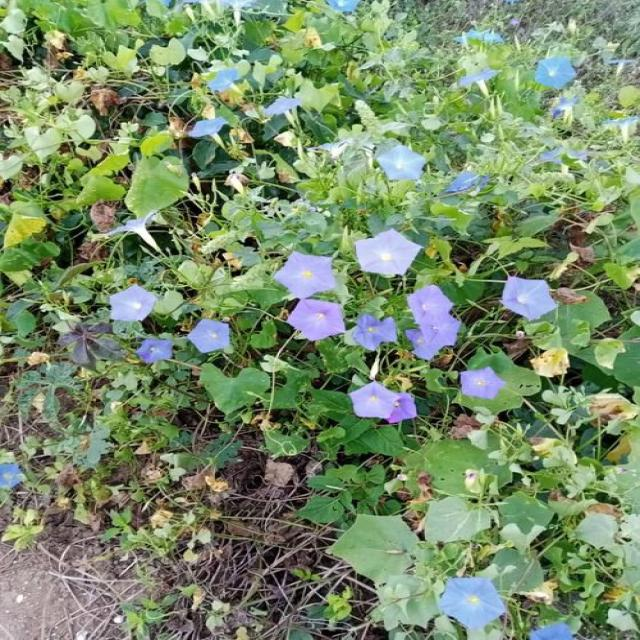ipomoea: (0, 0, 639, 639), (398, 282, 465, 363), (432, 574, 510, 632), (348, 227, 426, 280), (268, 250, 340, 302), (343, 379, 420, 426), (494, 272, 561, 324), (282, 296, 350, 344), (102, 282, 160, 326), (453, 364, 510, 404), (182, 316, 236, 357)
